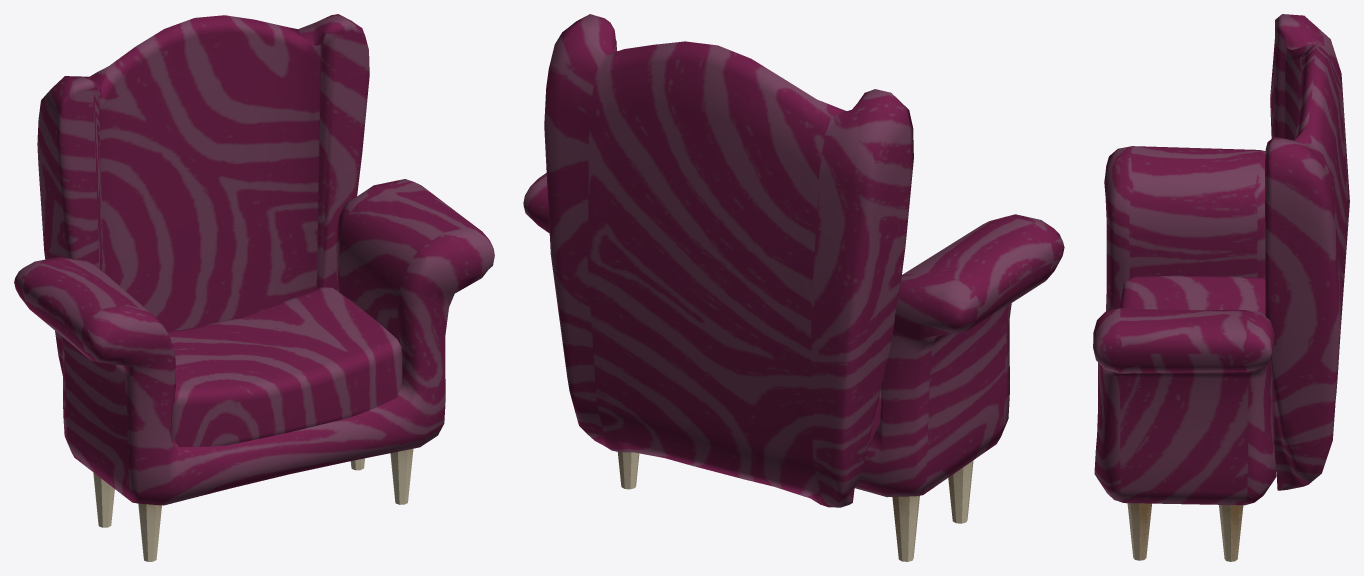
Rendered from sofa.fbx.
3 renders of one model, left to right at view 1: azimuth 30°, elevation 25°; view 2: azimuth 150°, elevation 25°; view 3: azimuth 270°, elevation 25°, orthographic. The views are drawn at different scales.
Visible parts, largest first — view 1: sofa; view 2: sofa; view 3: sofa.
Part boxes in pixels (x1=…): sofa: x1=14, y1=14, x2=494, y2=561; sofa: x1=523, y1=14, x2=1064, y2=561; sofa: x1=1093, y1=14, x2=1349, y2=561.
Bounding box in the file's own units: 235 × 251 × 132.
1 material, 1 textured.
